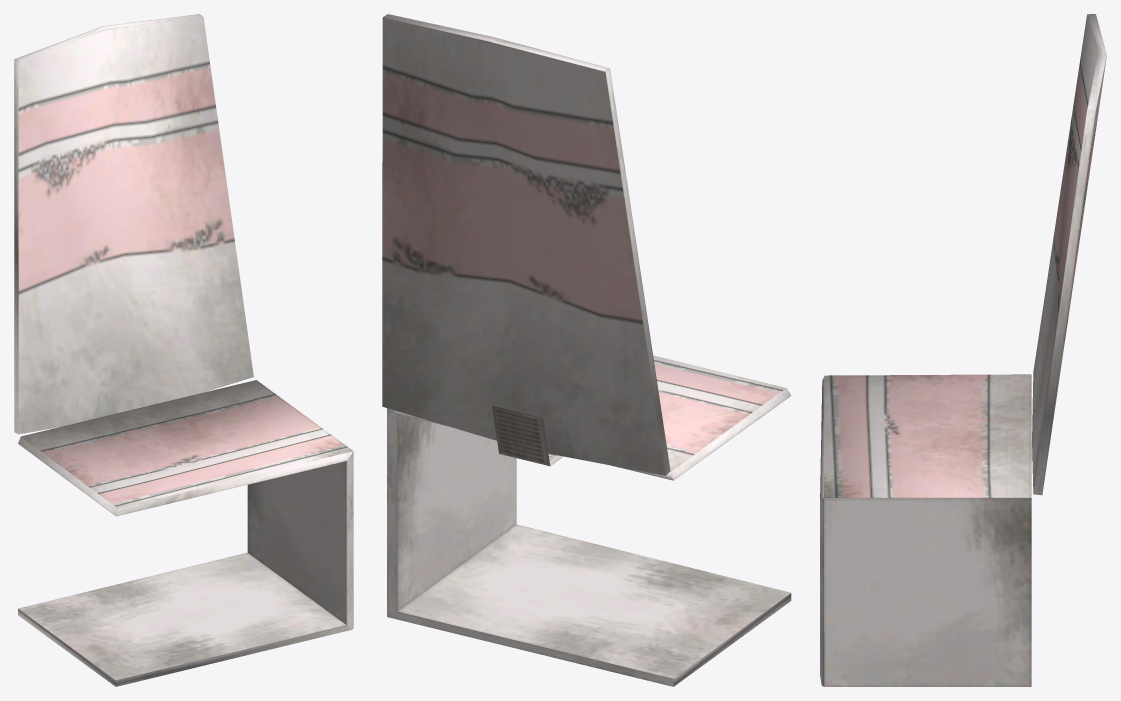
The model's file is frn_all_chair_kitchen_s2_l3.fbx.
The picture shows the model from 3 angles, left to right: view 1: azimuth 30°, elevation 25°; view 2: azimuth 150°, elevation 25°; view 3: azimuth 270°, elevation 25°; orthographic projection. The views are drawn at different scales.
Parts seen in each view (by area): view 1: mesh_node; view 2: mesh_node; view 3: mesh_node.
Boxes of the visible parts, <box> form: mesh_node: <box>14,14,353,686</box>; mesh_node: <box>382,14,791,686</box>; mesh_node: <box>820,14,1106,686</box>.
Bounding box in the file's own units: 0.56 × 1.2 × 0.5468.
